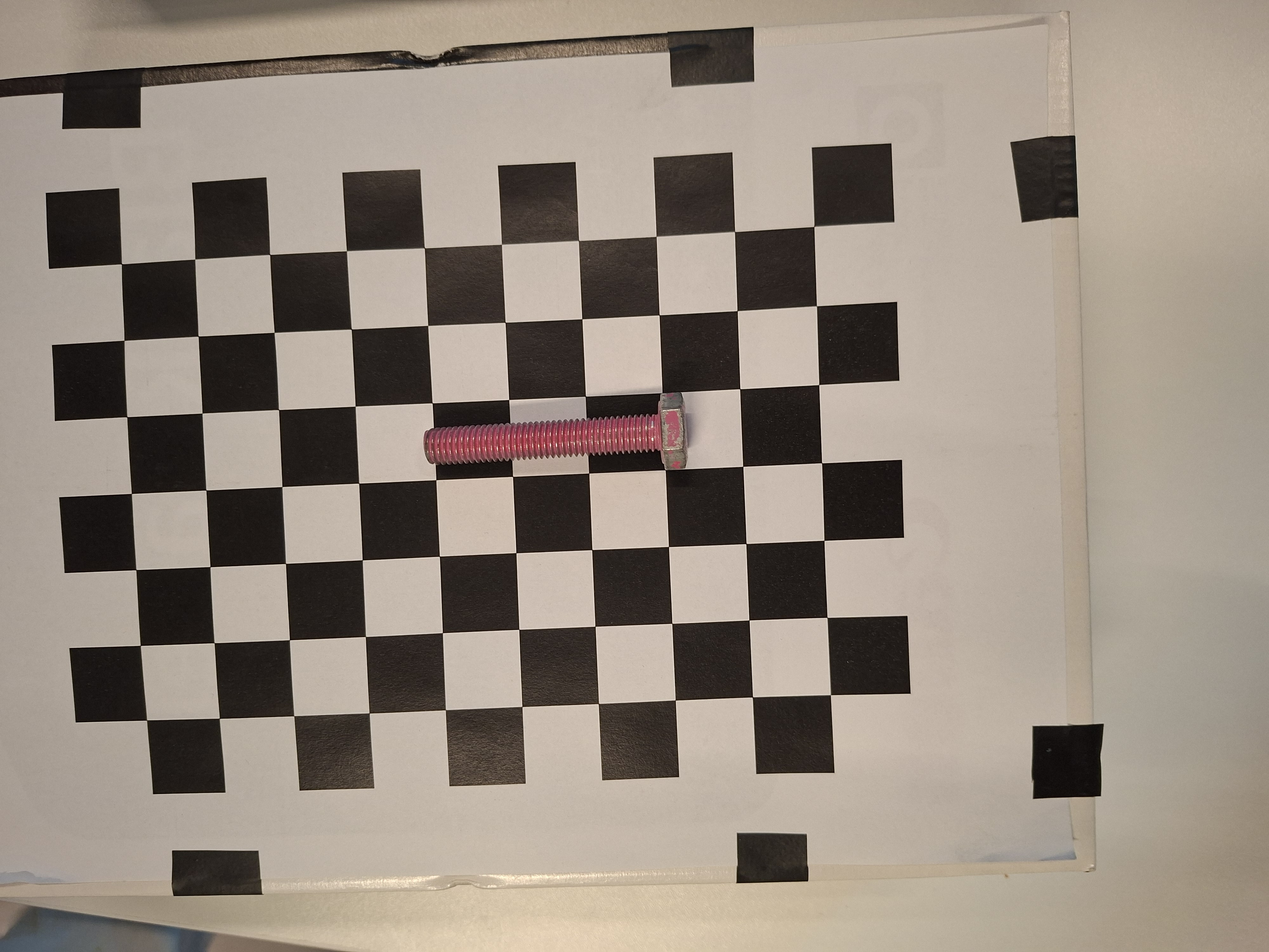hex_bolt: (409, 382, 698, 503)
